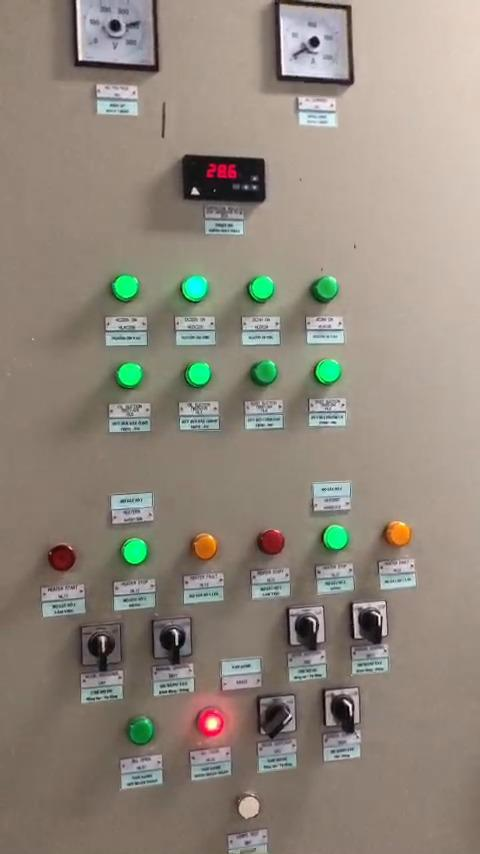led: (125, 716, 159, 749), (45, 542, 78, 572), (198, 709, 229, 739), (313, 271, 343, 301), (384, 520, 413, 550), (182, 274, 211, 303), (257, 528, 285, 558), (190, 532, 218, 562), (314, 356, 341, 386), (322, 522, 349, 552), (113, 274, 140, 303), (253, 359, 280, 388), (249, 275, 278, 301), (123, 536, 149, 565), (185, 361, 214, 386), (115, 364, 141, 389), (237, 794, 265, 817)
twist: (79, 624, 122, 669), (257, 695, 296, 740), (155, 618, 194, 661), (287, 606, 326, 648), (325, 688, 361, 730), (352, 602, 389, 642)
